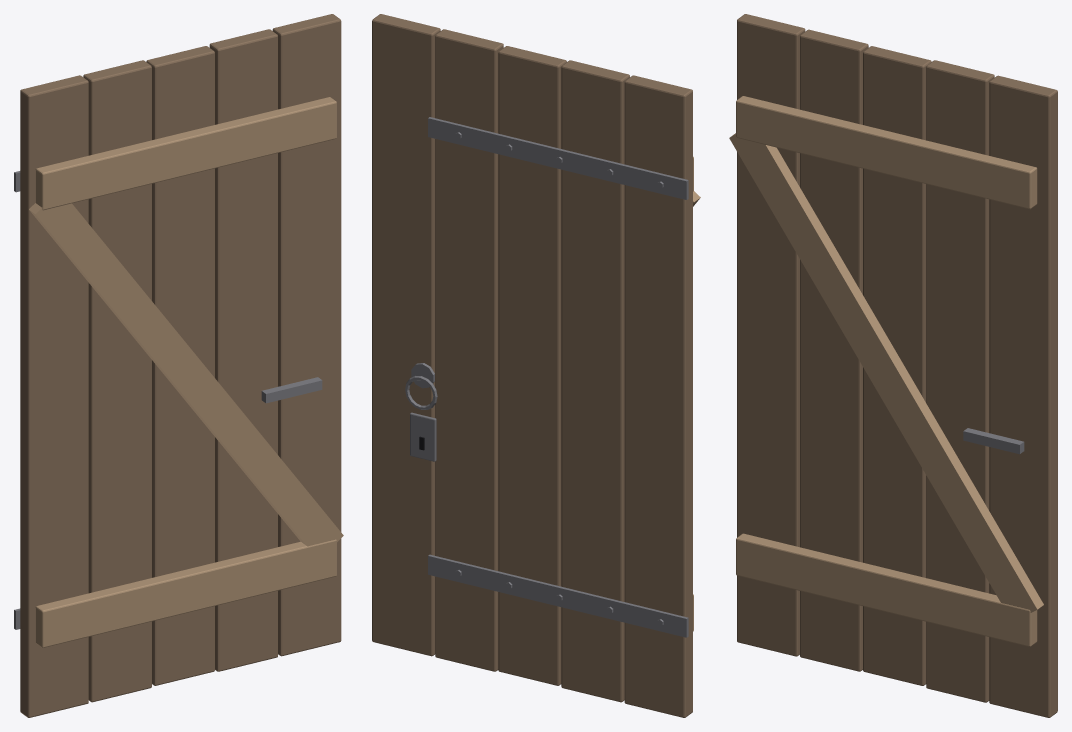
Rendered from door_leaf.glb.
3 renders of one model, left to right at view 1: azimuth 30°, elevation 25°; view 2: azimuth 150°, elevation 25°; view 3: azimuth 330°, elevation 25°, orthographic.
Visible parts, largest first — view 1: door_leaf; view 2: door_leaf; view 3: door_leaf.
Part boxes in pixels (x1,y1,x2,y2): door_leaf: (14,14,343,717); door_leaf: (372,14,700,717); door_leaf: (729,14,1057,717).
Size of the model in its own units: 1.24 by 2.32 by 0.1368.
